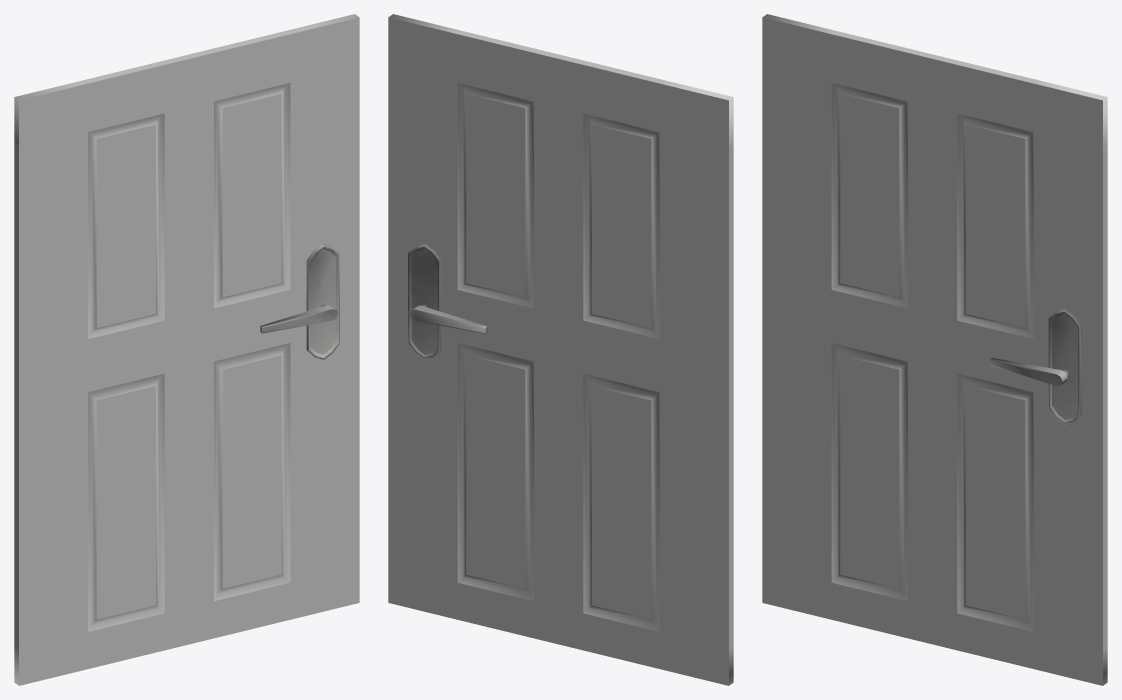
The model's file is Door_Outside.fbx.
The picture shows the model from 3 angles, left to right: view 1: azimuth 30°, elevation 25°; view 2: azimuth 150°, elevation 25°; view 3: azimuth 330°, elevation 25°; orthographic projection.
Parts seen in each view (by area): view 1: Door_Outside, Base_Manija, Manija_In.001; view 2: Door_Outside, Base_Manija, Manija_In_2.001; view 3: Door_Outside, Base_Manija, Manija_In.001.
Part boxes in pixels (x1,y1,x2,y2): Door_Outside: (14,14,359,685); Base_Manija: (306,244,339,359); Manija_In.001: (260,304,337,333); Door_Outside: (388,14,733,685); Base_Manija: (408,244,441,359); Manija_In_2.001: (409,304,487,333); Door_Outside: (762,14,1107,685); Base_Manija: (1048,309,1081,424); Manija_In.001: (990,358,1069,385).
Bounding box in the file's own units: 122 × 201 × 14.92.
